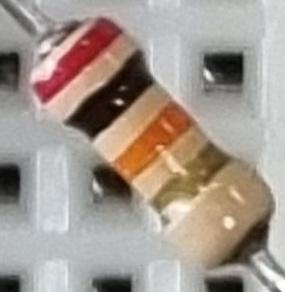Black: (71, 54, 152, 136)
Orange: (114, 103, 193, 180)
Red: (33, 16, 120, 103)
Side-Gold: (150, 140, 230, 224)
